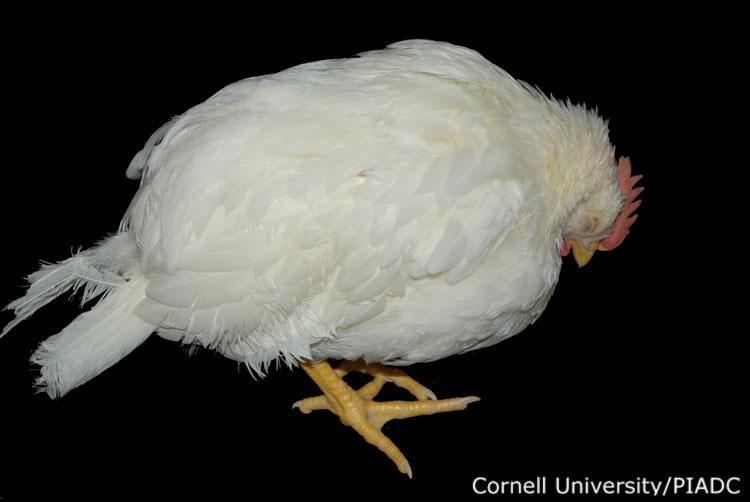AbNormal: (7, 36, 645, 478)
